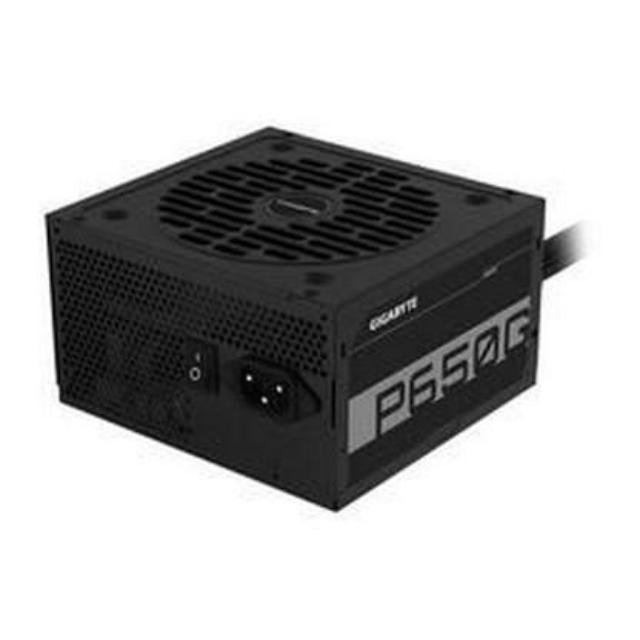PSU: (31, 115, 554, 520)
